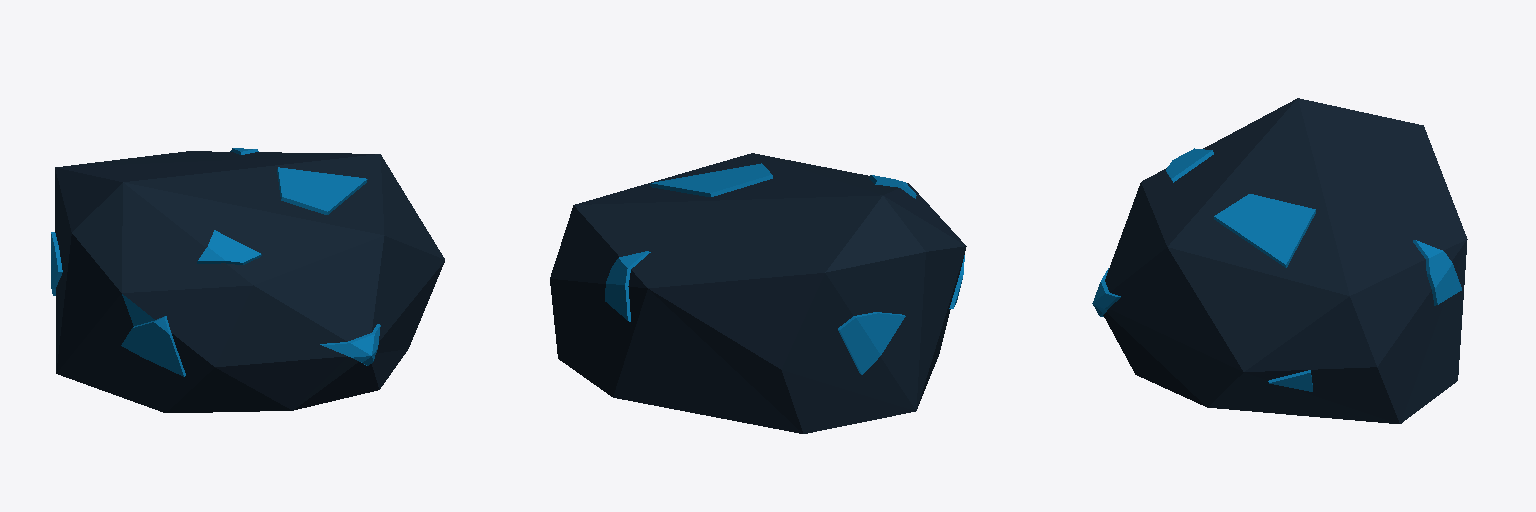
The model's file is MoonstoneOre.obj.
3 views of the same model, side by side, from view 1: azimuth 30°, elevation 25°; view 2: azimuth 150°, elevation 25°; view 3: azimuth 270°, elevation 25° (orthographic).
Parts seen in each view (by area): view 1: MoonstoneOre; view 2: MoonstoneOre; view 3: MoonstoneOre.
Part boxes in pixels (x1,y1,x2,y2): MoonstoneOre: (51,148,444,412); MoonstoneOre: (550,153,966,433); MoonstoneOre: (1092,98,1467,423).
Bounding box in the file's own units: 0.3924 × 0.2098 × 0.3662.